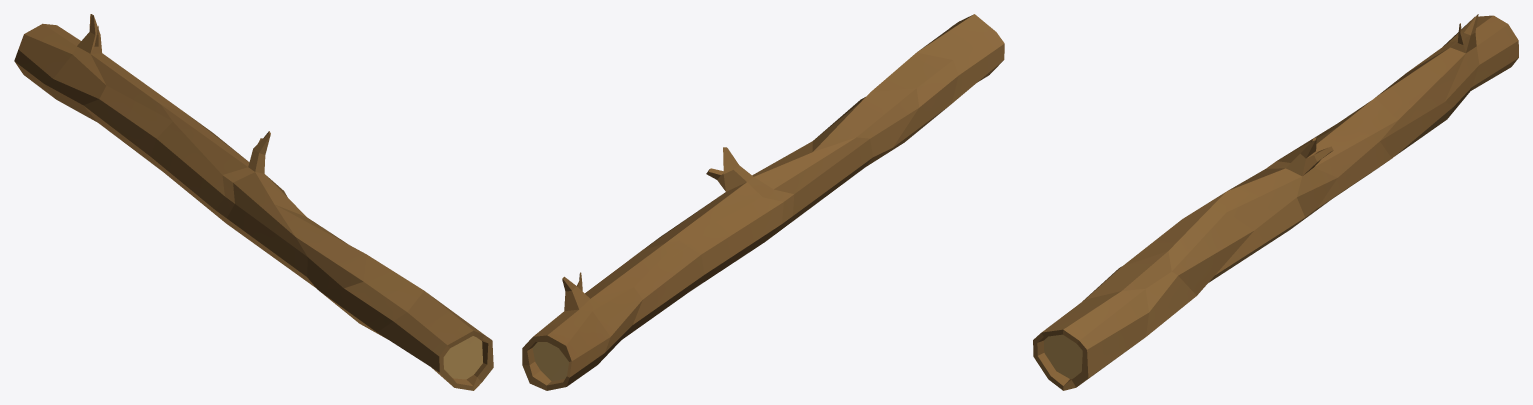
The model's file is log_9.glb.
The picture shows the model from 3 angles, left to right: view 1: azimuth 30°, elevation 25°; view 2: azimuth 150°, elevation 25°; view 3: azimuth 330°, elevation 25°; orthographic projection.
Visible parts, largest first — view 1: log_9; view 2: log_9; view 3: log_9.
Part boxes in pixels (x1,y1,x2,y2): log_9: (14, 14, 493, 390); log_9: (522, 14, 1004, 390); log_9: (1033, 14, 1518, 390).
Bounding box in the file's own units: 0.0759 × 0.0978 × 0.8571.
Materials: 1 (1 with a texture image).
